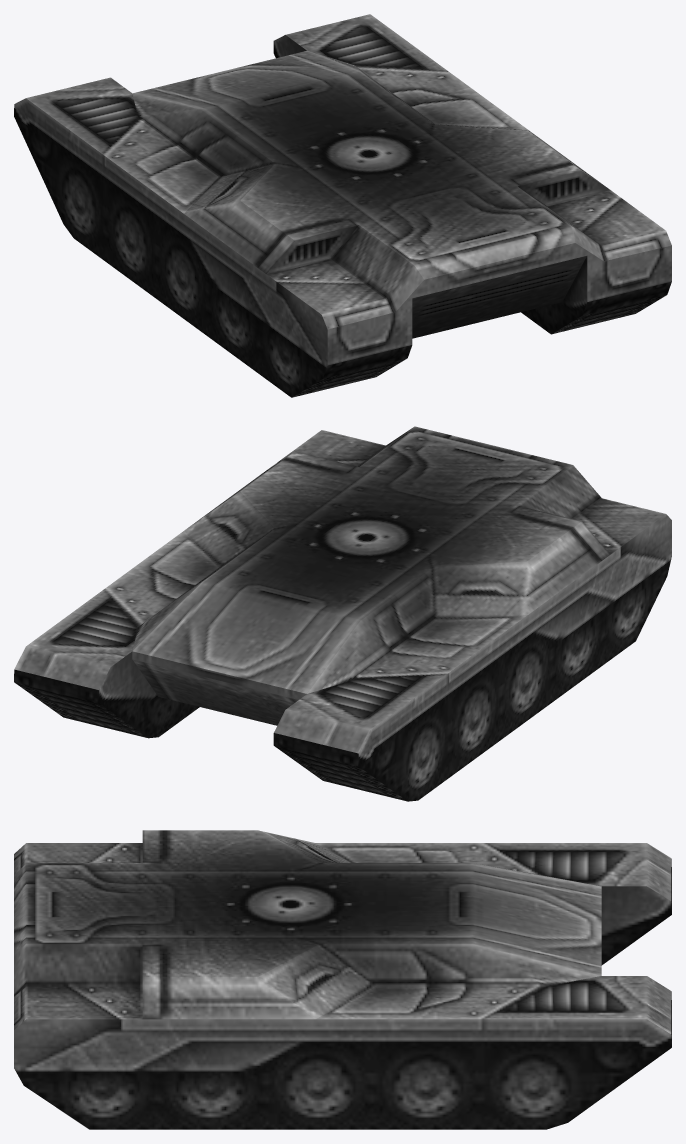
Rendered from viking.glb.
3 views of the same model, one above another, from view 1: azimuth 30°, elevation 25°; view 2: azimuth 150°, elevation 25°; view 3: azimuth 270°, elevation 25° (orthographic). The views are drawn at different scales.
Parts seen in each view (by area): view 1: Hull; view 2: Hull; view 3: Hull.
Part boxes in pixels (x1,y1,x2,y2): Hull: (14,14,671,397); Hull: (14,426,671,801); Hull: (14,830,671,1129).
Bounding box in the file's own units: 343 × 125 × 541.
Materials: 1 (1 with a texture image).
